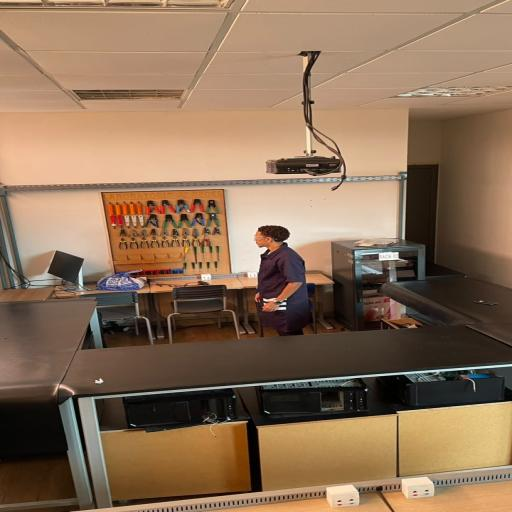OCULOS: (253, 235, 271, 240)
